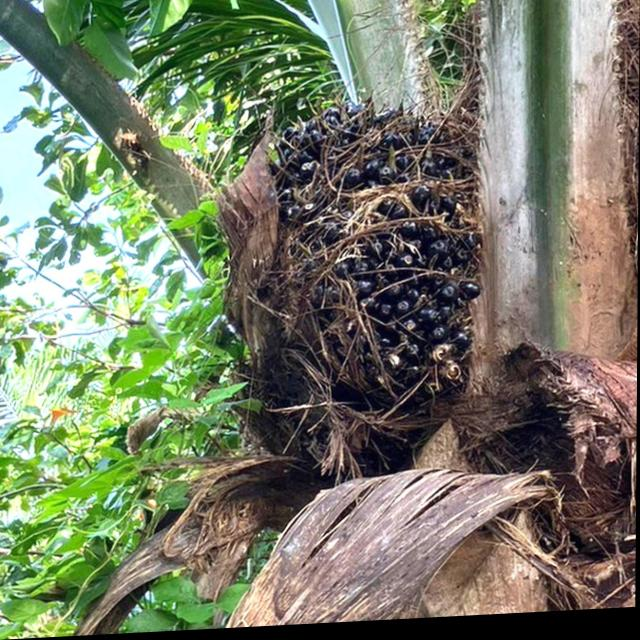unripe: (209, 82, 500, 502)
